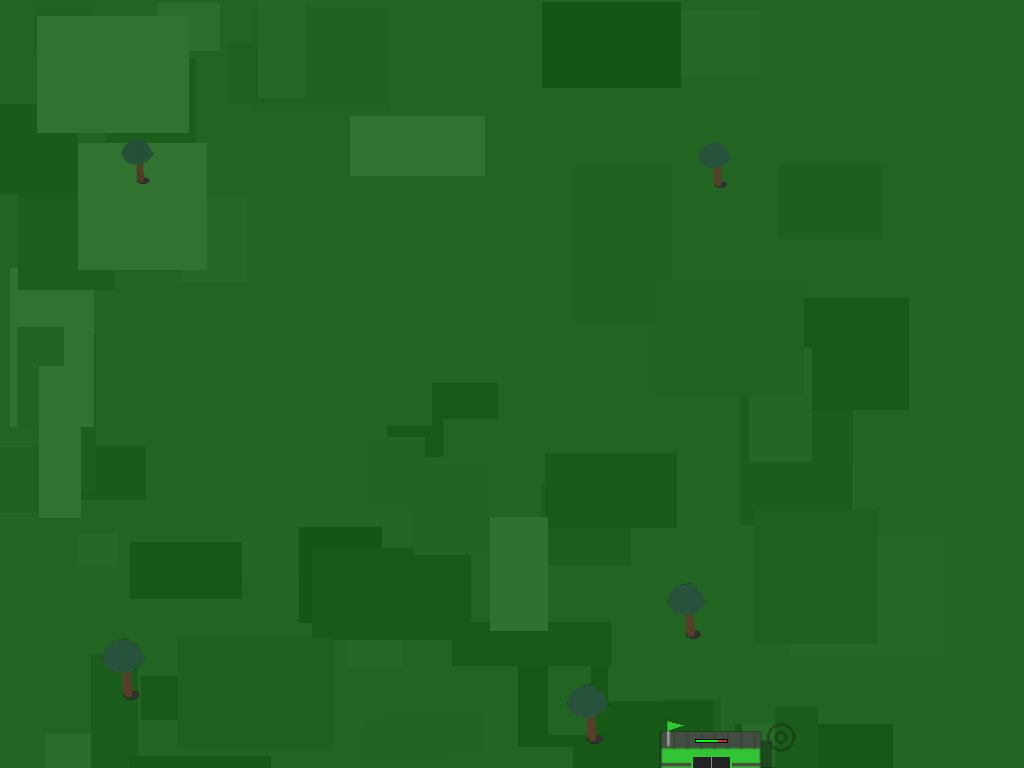Barracks: (650, 676, 772, 768)
